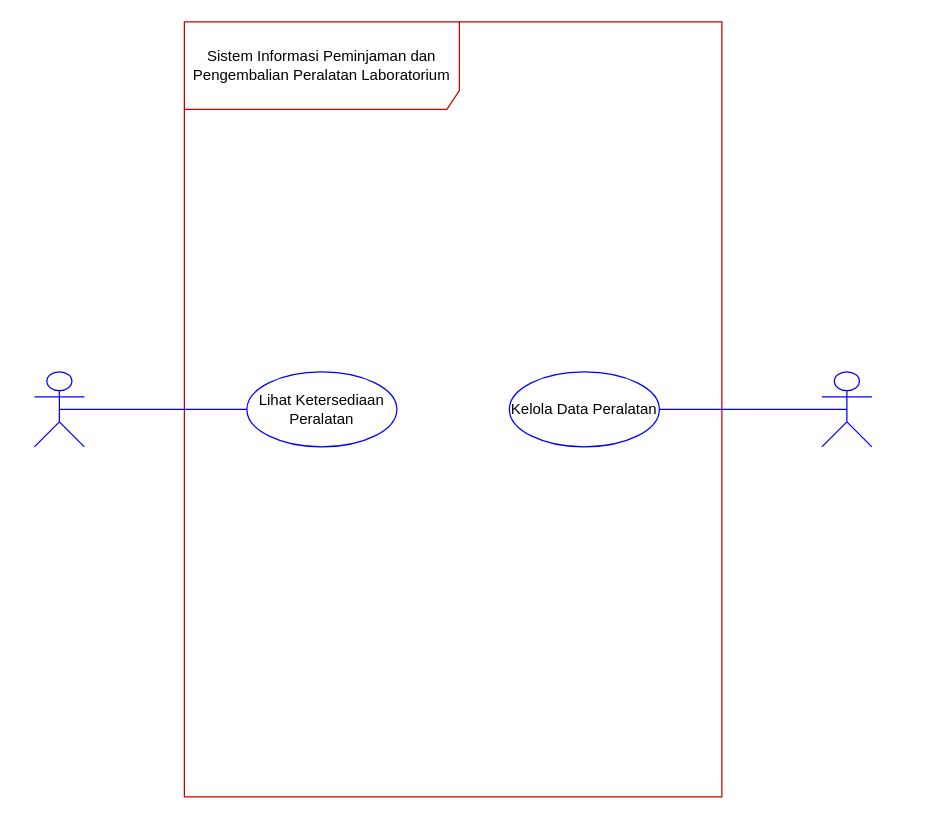
Some shapes in this 925 by 819 pixel diagram are drawn without their labels. Here are the shapes that lost their labels. From the top down, the centre of each, then its label:
(x=58, y=409): Mahasiswa
(x=846, y=409): Petugas Laboran
